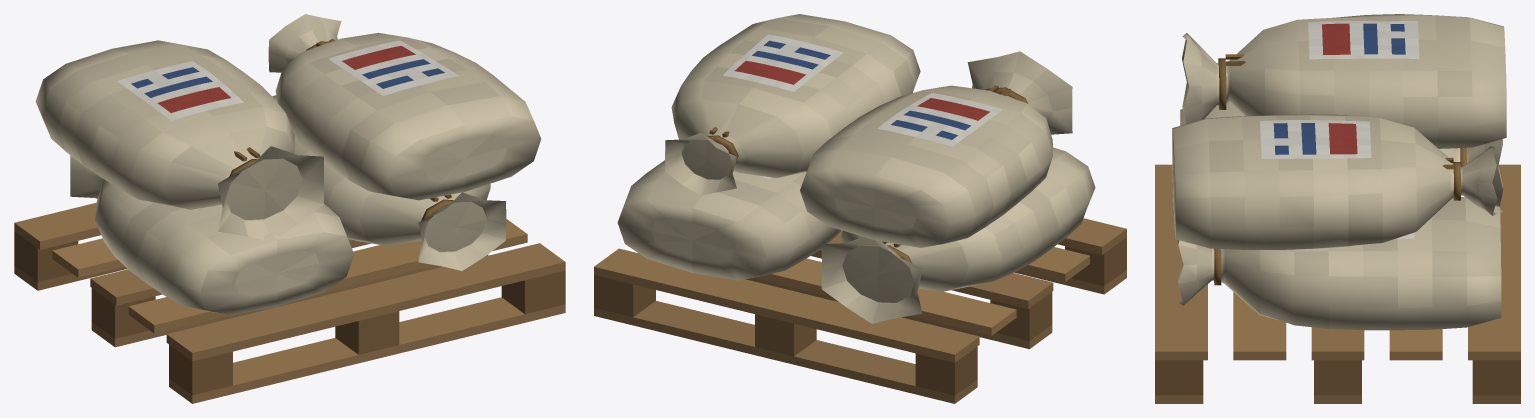
The model's file is flour-pallet.glb.
3 renders of one model, left to right at view 1: azimuth 30°, elevation 25°; view 2: azimuth 150°, elevation 25°; view 3: azimuth 270°, elevation 25°, orthographic. The views are drawn at different scales.
Visible parts, largest first — view 1: flour-pallet; view 2: flour-pallet; view 3: flour-pallet.
Part boxes in pixels (x1,y1,x2,y2): flour-pallet: (14,14,565,403); flour-pallet: (594,14,1126,403); flour-pallet: (1155,14,1520,403).
Bounding box in the file's own units: 0.92 × 0.5256 × 0.76.
